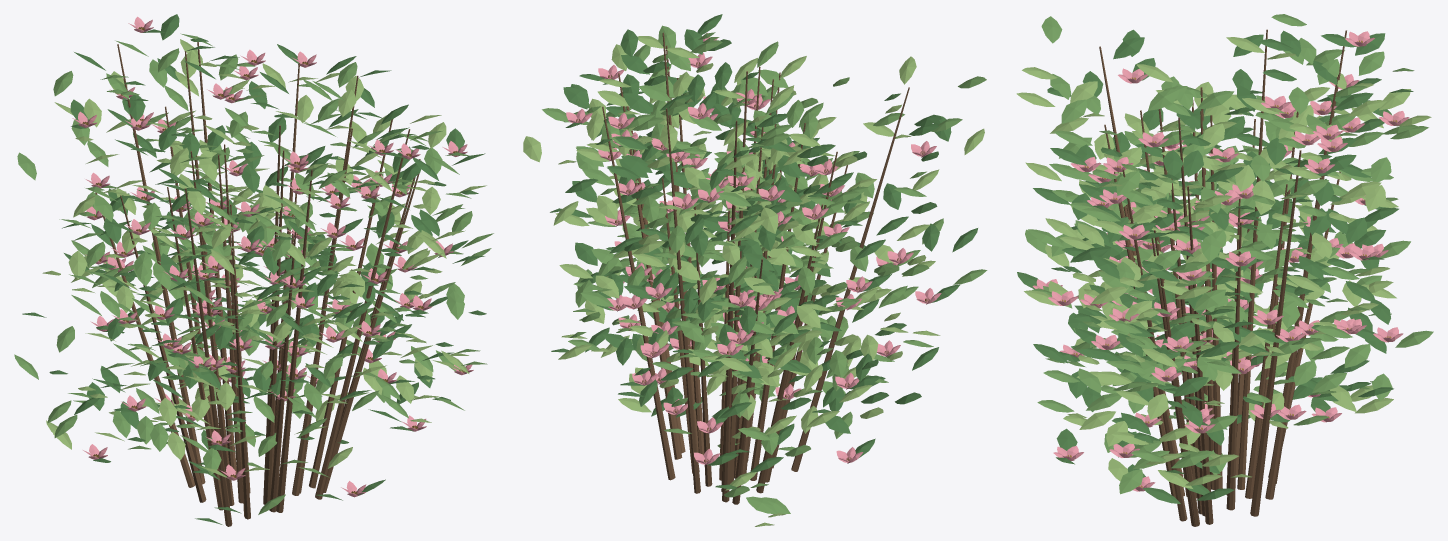
File: flowering-shrub.glb
3 views of the same model, side by side, from view 1: azimuth 30°, elevation 25°; view 2: azimuth 150°, elevation 25°; view 3: azimuth 270°, elevation 25° (orthographic). The views are drawn at different scales.
Parts seen in each view (by area): view 1: flowering-shrub; view 2: flowering-shrub; view 3: flowering-shrub.
Boxes of the visible parts, box(x1,y1,x2,y2) form: flowering-shrub: box(14, 14, 493, 526); flowering-shrub: box(523, 14, 987, 526); flowering-shrub: box(1016, 14, 1433, 526).
Bounding box in the file's own units: 0.9 × 1 × 0.85.
